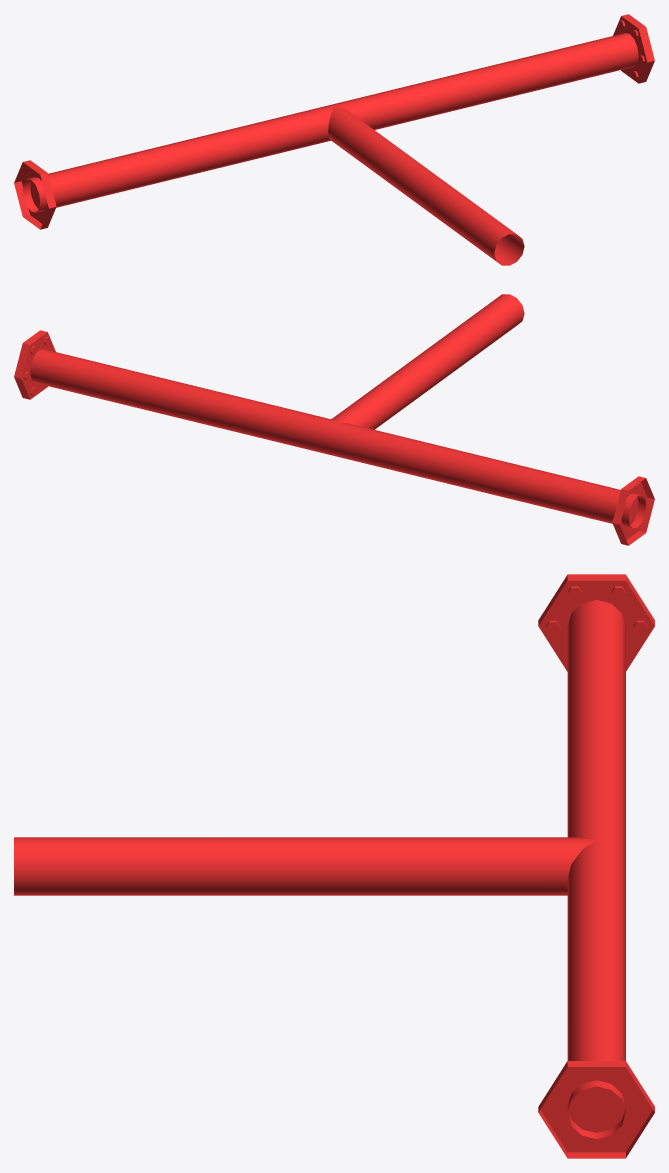
File: T_Pipe.fbx
3 renders of one model, top to bottom at view 1: azimuth 30°, elevation 25°; view 2: azimuth 150°, elevation 25°; view 3: azimuth 270°, elevation 25°, orthographic. The views are drawn at different scales.
Visible parts, largest first — view 1: P4; view 2: P4; view 3: P4.
Part boxes in pixels (bbox=[...]): P4: bbox=[14, 14, 654, 265]; P4: bbox=[14, 294, 654, 545]; P4: bbox=[14, 574, 654, 1158].
Size of the model in its own units: 10 by 0.866 by 5.5.
